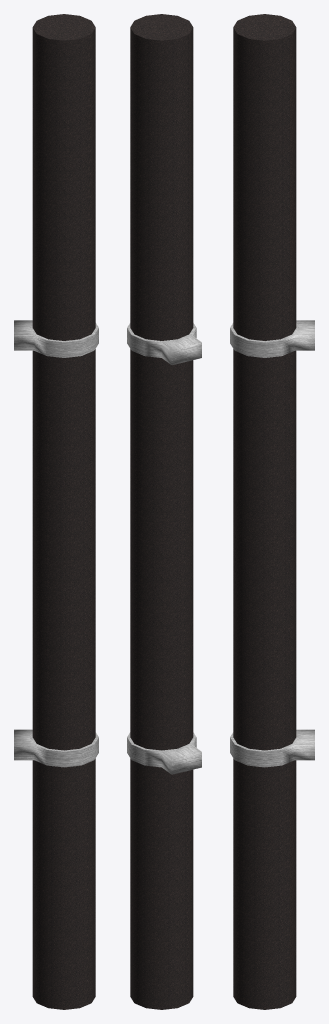
File: drainpipeMiddle.glb
The picture shows the model from 3 angles, left to right: view 1: azimuth 90°, elevation 25°; view 2: azimuth 210°, elevation 25°; view 3: azimuth 270°, elevation 25°; orthographic projection.
Visible parts, largest first — view 1: Cylinder; view 2: Cylinder; view 3: Cylinder.
Boxes of the visible parts, x1=… form: Cylinder: x1=14, y1=14, x2=98, y2=1009; Cylinder: x1=127, y1=14, x2=201, y2=1009; Cylinder: x1=230, y1=14, x2=314, y2=1009.
Bounding box in the file's own units: 0.3904 × 6 × 0.4765.
Materials: 2 (2 with a texture image).
